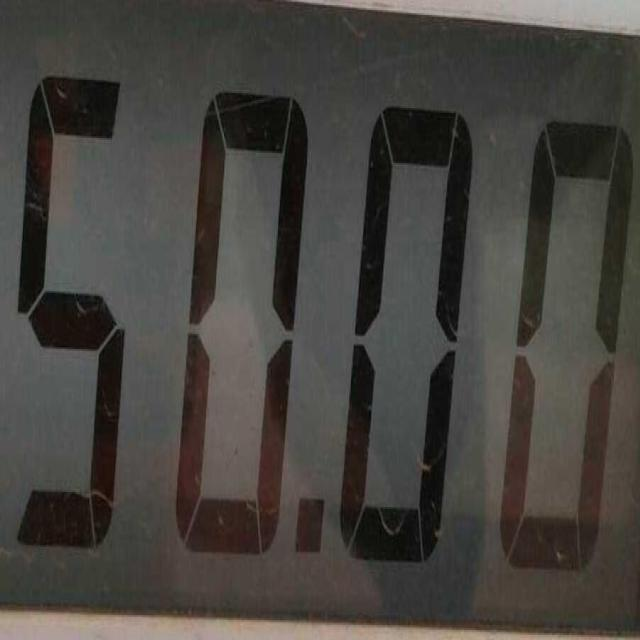.: (293, 488, 326, 572)
0: (177, 84, 311, 556), (341, 100, 474, 566), (500, 117, 635, 574)
5: (12, 70, 128, 547)
